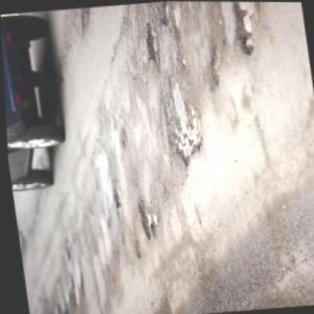Hueco: (163, 100, 208, 167), (132, 194, 162, 240), (140, 24, 160, 62), (108, 184, 119, 208)
